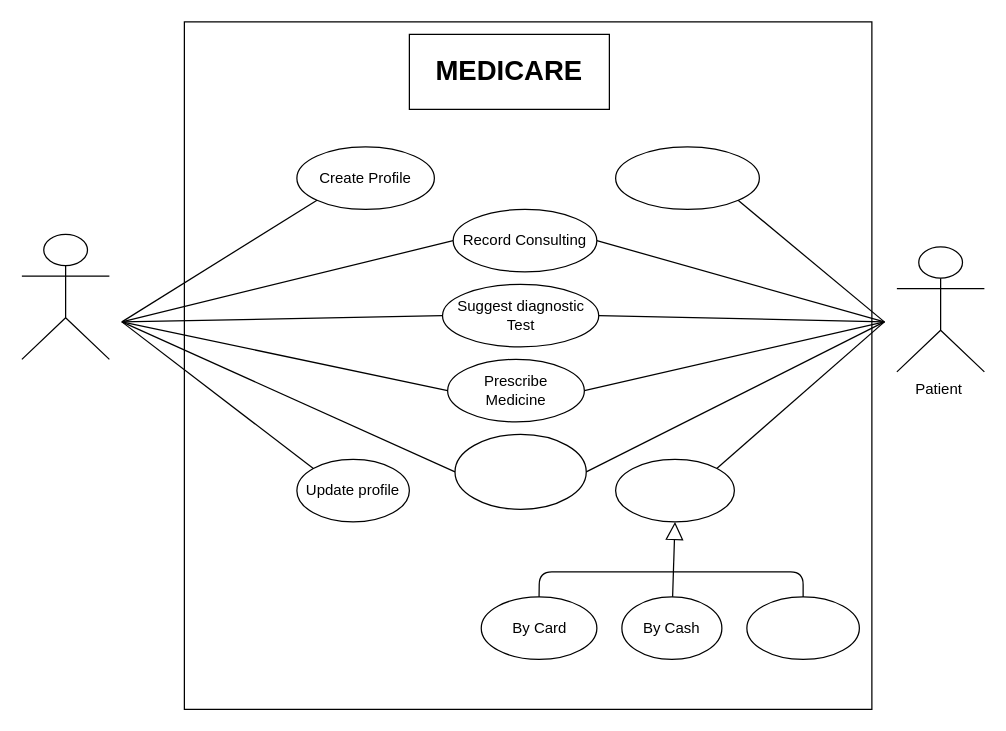
Some shapes in this 1006 by 731 pixel diagram are drawn without their labels. Here are the shapes that lost their labels. From the top down, the centre of each, then its label:
At point 686,177: "Take appointment".
At point 65,296: "Doctor".
At point 520,471: "Notify for next consulting".
At point 674,490: "Pay Bill".
At point 802,627: "BY Online Payment".
